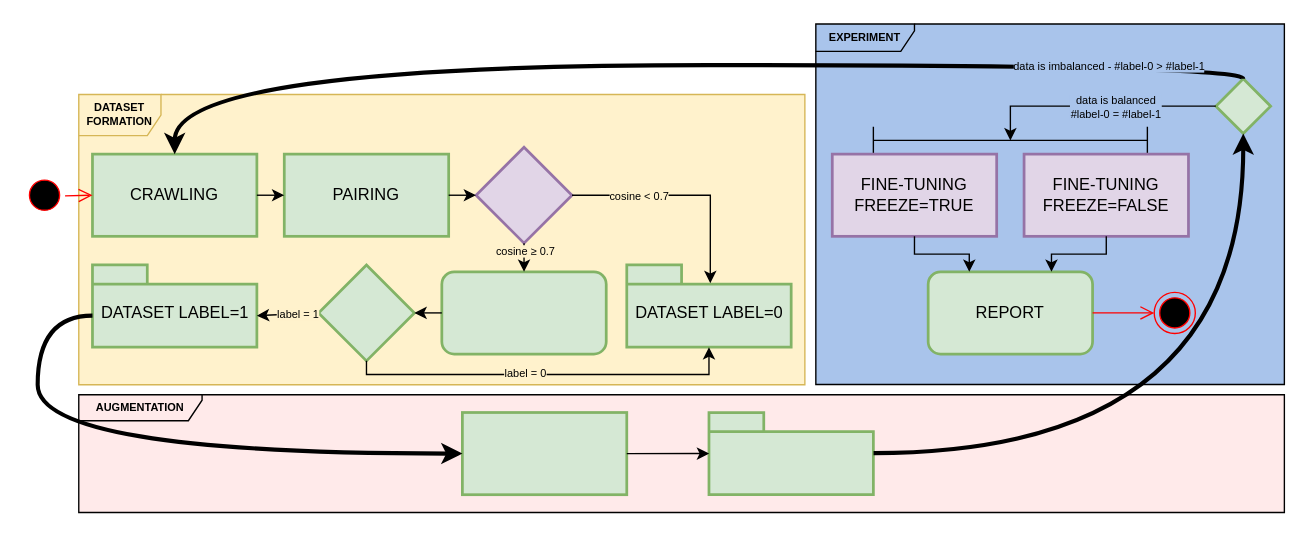
The diagram is 1308 pixels wide and 537 high, and some of its shapes have lost their labels. The box of each missing label's shape, as (x1, y1, x2, y2) in pixels:
AUGMENTATION PROCESSES: (460, 410, 627, 495)
AUGMENTED DATASETS LABEL=1: (707, 410, 874, 495)
LABEL FILTER: (316, 263, 415, 362)
MANUAL LABELING: (440, 270, 607, 355)
SBERT FILTER: (474, 145, 573, 244)
